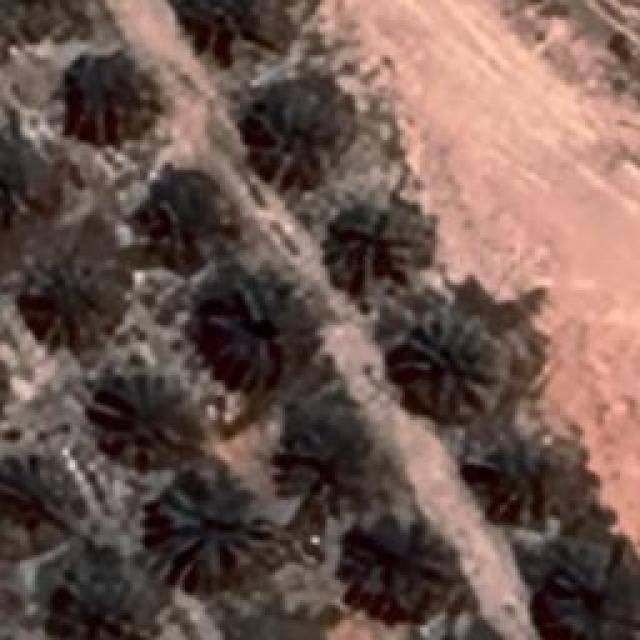PalmTree: (150, 465, 272, 590), (34, 90, 65, 495), (348, 521, 466, 624), (320, 190, 430, 295), (197, 272, 305, 378), (274, 398, 376, 504), (395, 318, 500, 418), (141, 166, 234, 266), (25, 248, 110, 354), (547, 544, 635, 638), (89, 371, 179, 459), (247, 100, 335, 188), (468, 432, 548, 526), (68, 51, 156, 134), (184, 0, 274, 65), (50, 574, 140, 638), (0, 0, 73, 42), (17, 88, 34, 182), (0, 342, 10, 430)
